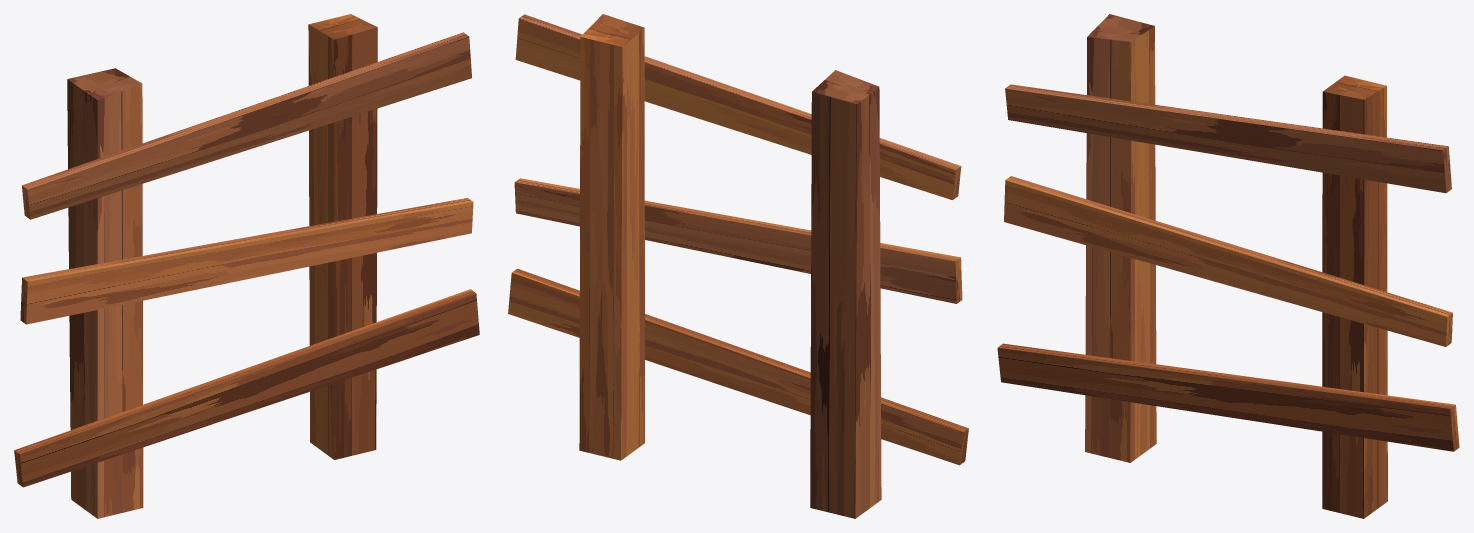
The model's file is fence1.fbx.
3 views of the same model, side by side, from view 1: azimuth 30°, elevation 25°; view 2: azimuth 150°, elevation 25°; view 3: azimuth 330°, elevation 25° (orthographic).
Visible parts, largest first — view 1: fence; view 2: fence; view 3: fence.
Part boxes in pixels (bbox=[...]): fence: bbox=[14, 14, 479, 518]; fence: bbox=[508, 14, 968, 518]; fence: bbox=[997, 14, 1459, 518].
Size of the model in its own units: 230 by 202 by 28.61.
